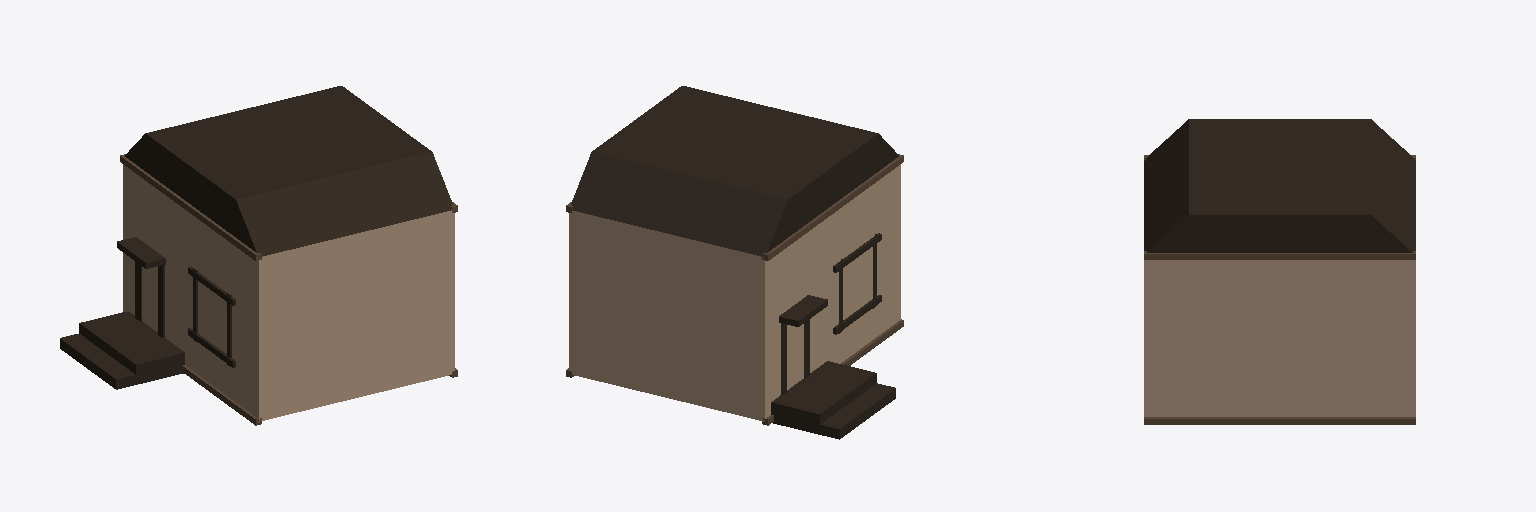
3 views of the same model, side by side, from view 1: azimuth 30°, elevation 25°; view 2: azimuth 150°, elevation 25°; view 3: azimuth 270°, elevation 25° (orthographic).
Parts seen in each view (by area): view 1: cuboid; view 2: cuboid; view 3: cuboid.
Boxes of the visible parts, x1,y1,x2,y2 form: cuboid: [60, 86, 457, 425]; cuboid: [566, 86, 903, 439]; cuboid: [1144, 119, 1415, 424].
Bounding box in the file's own units: 0.8531 × 0.6406 × 0.75.
Materials: 1 (1 with a texture image).